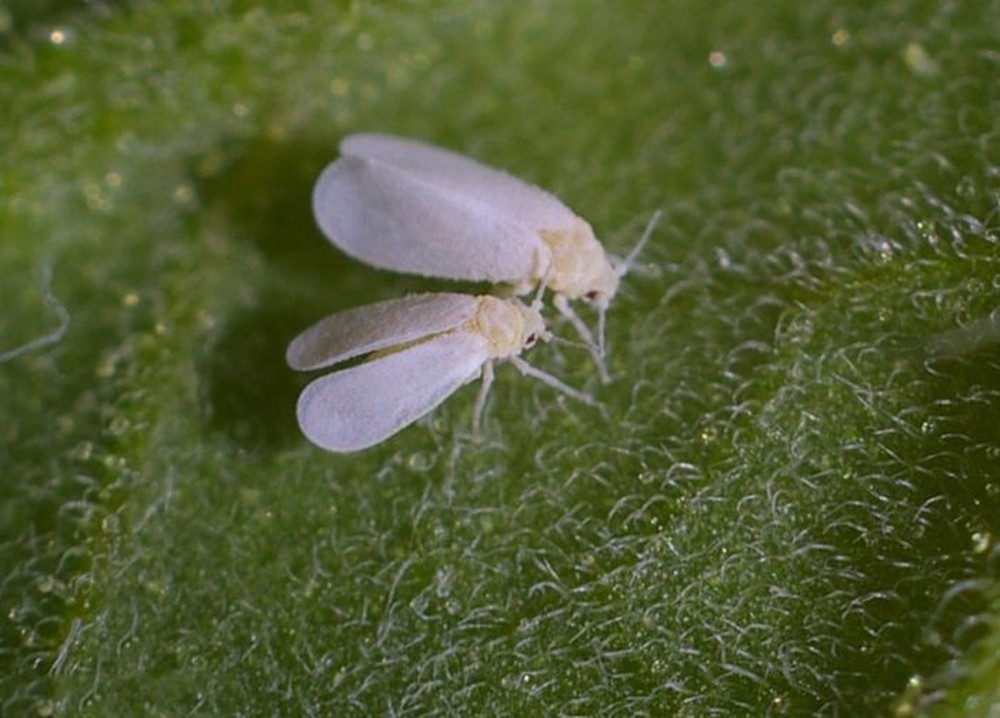Mosca Blanca: (288, 122, 706, 371), (249, 272, 603, 441)
